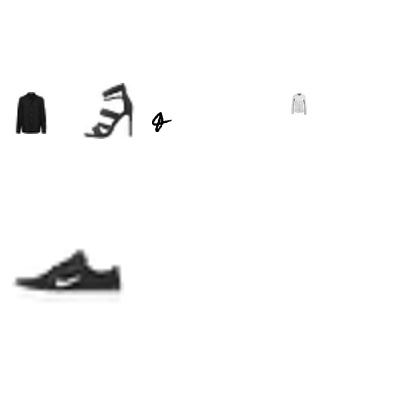4: (145, 107, 173, 135)
Sandal: (80, 83, 136, 139)
Shirt: (10, 92, 52, 134), (288, 93, 310, 115)
Sneaker: (12, 218, 124, 330)
